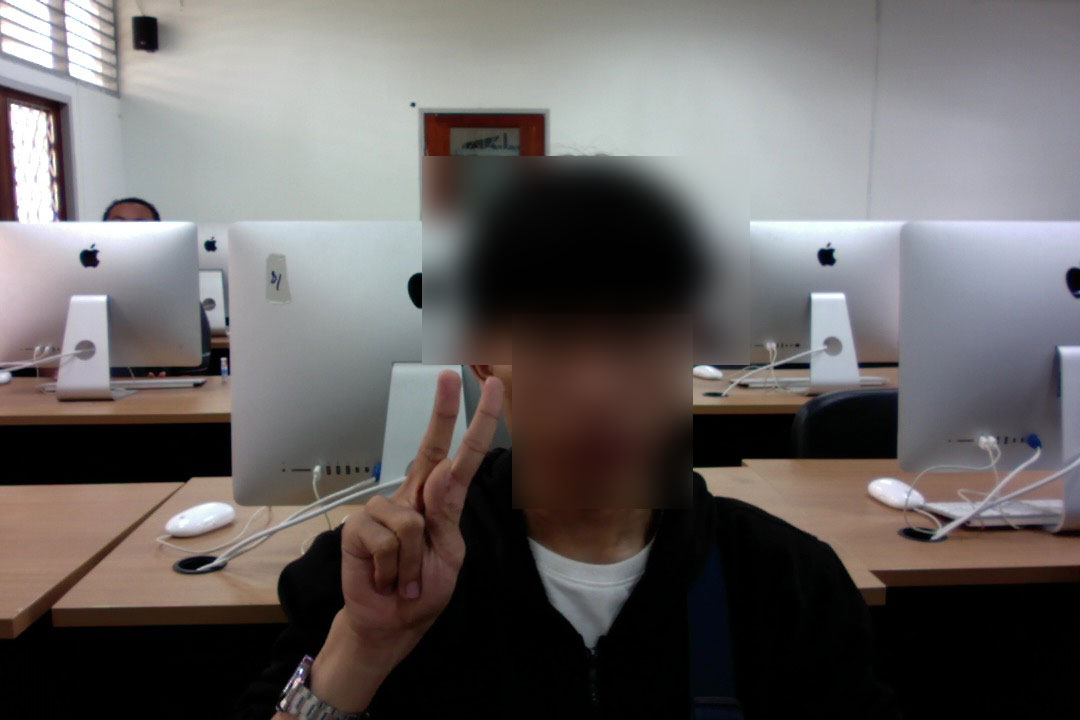ko: (312, 351, 514, 640)
